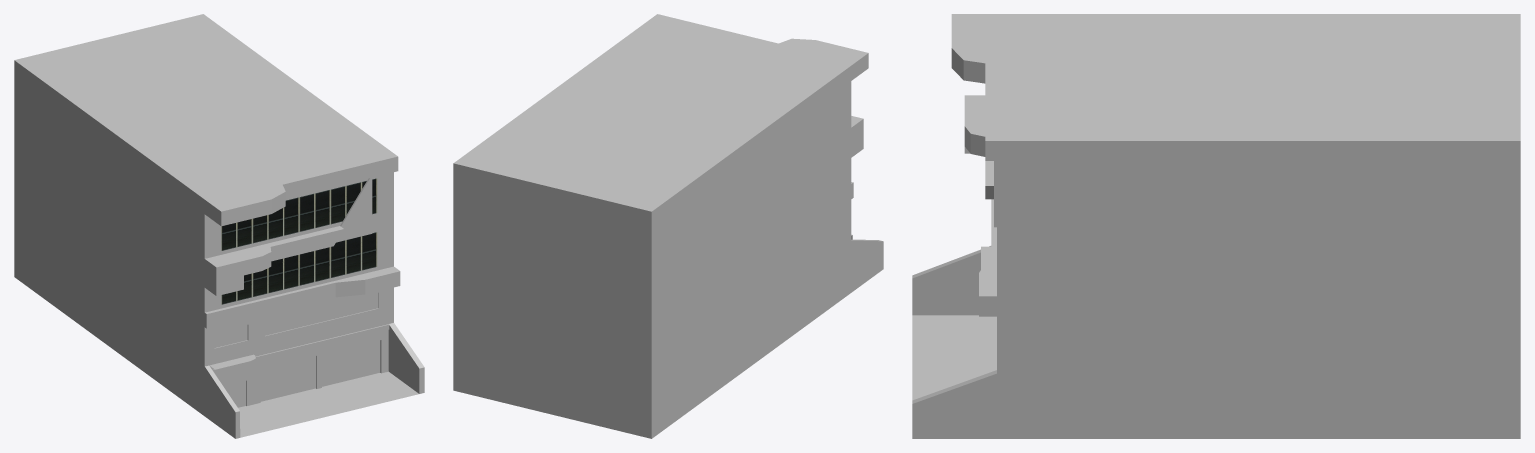
3 views of the same model, side by side, from view 1: azimuth 30°, elevation 25°; view 2: azimuth 150°, elevation 25°; view 3: azimuth 270°, elevation 25° (orthographic). The views are drawn at different scales.
Visible parts, largest first — view 1: BB-041; view 2: BB-041; view 3: BB-041.
Part boxes in pixels (x1=…): BB-041: x1=14, y1=14, x2=424, y2=438; BB-041: x1=453, y1=14, x2=883, y2=438; BB-041: x1=912, y1=14, x2=1520, y2=438.
Size of what is drawn, in the model's own units: 17.78 by 19.47 by 36.
